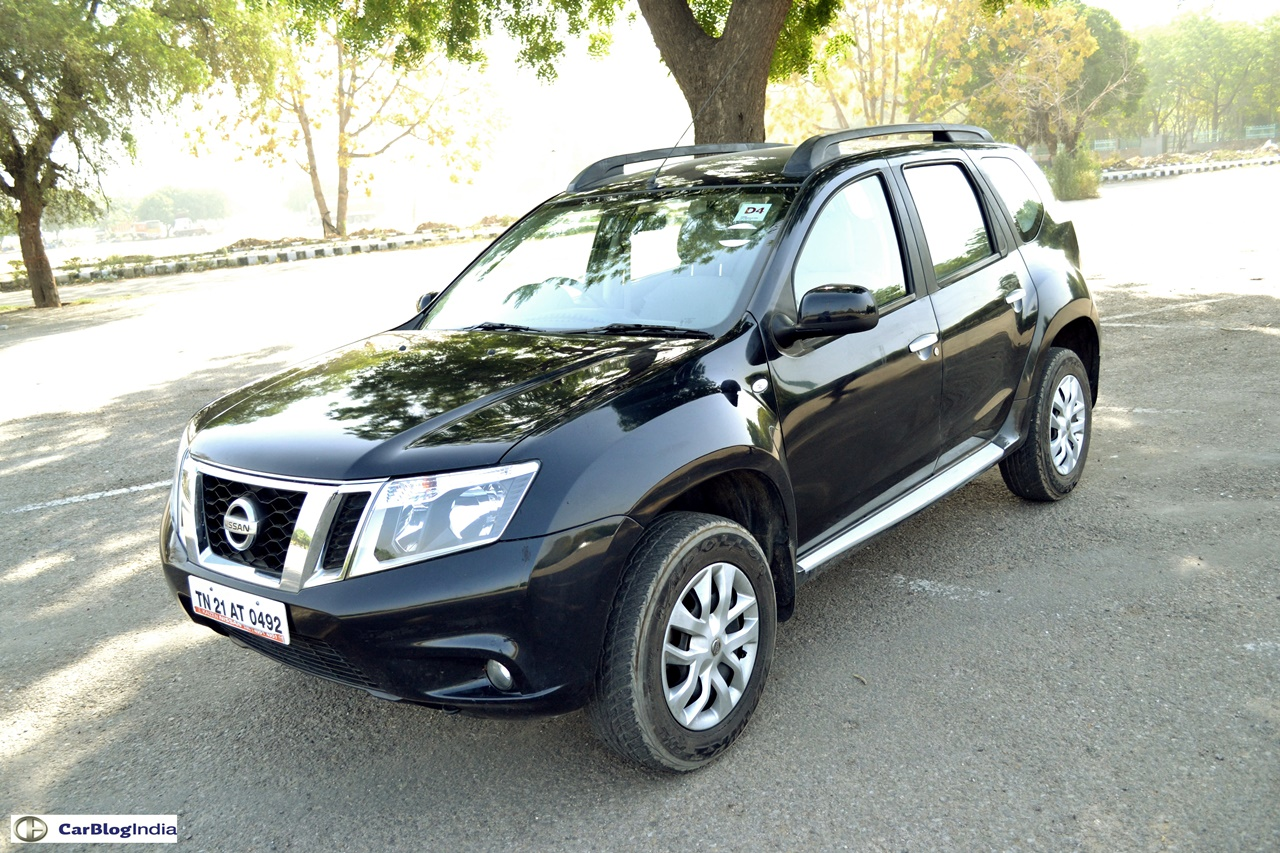number_plate: (177, 571, 305, 649)
